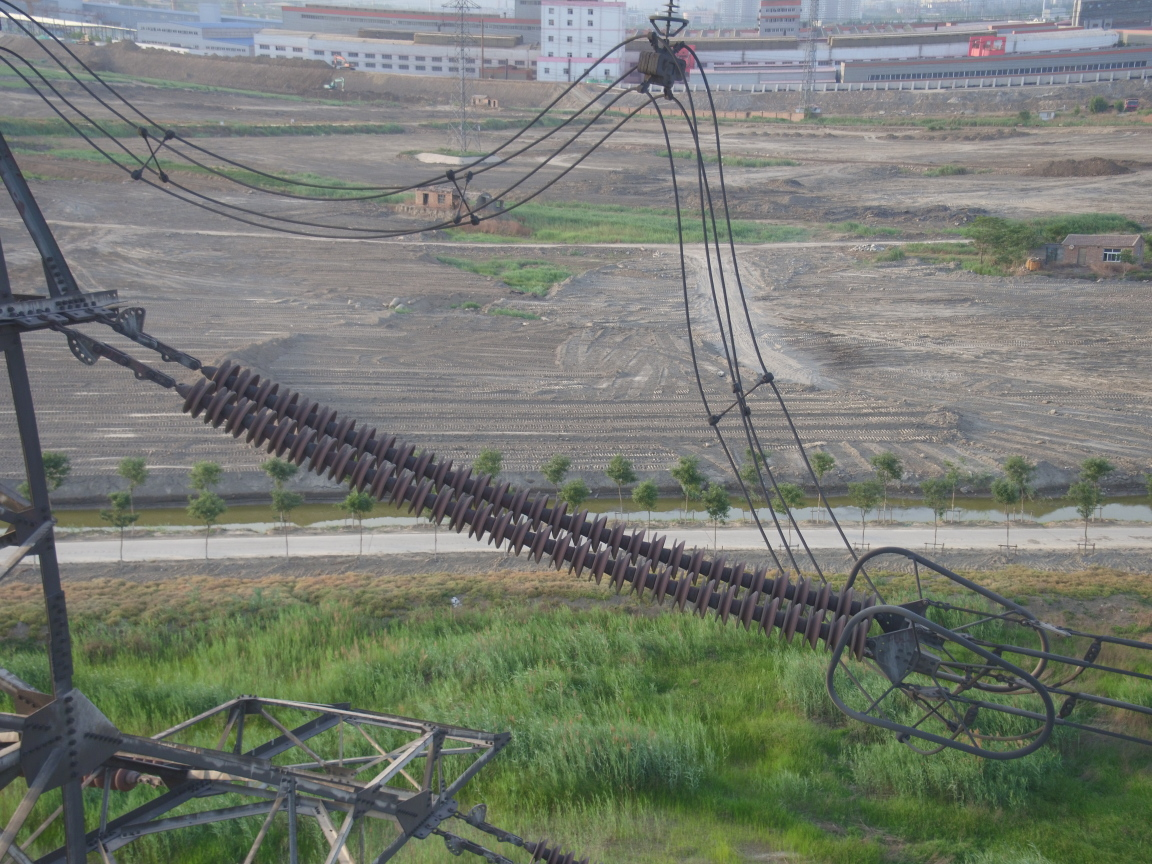insulator: (148, 348, 886, 668)
